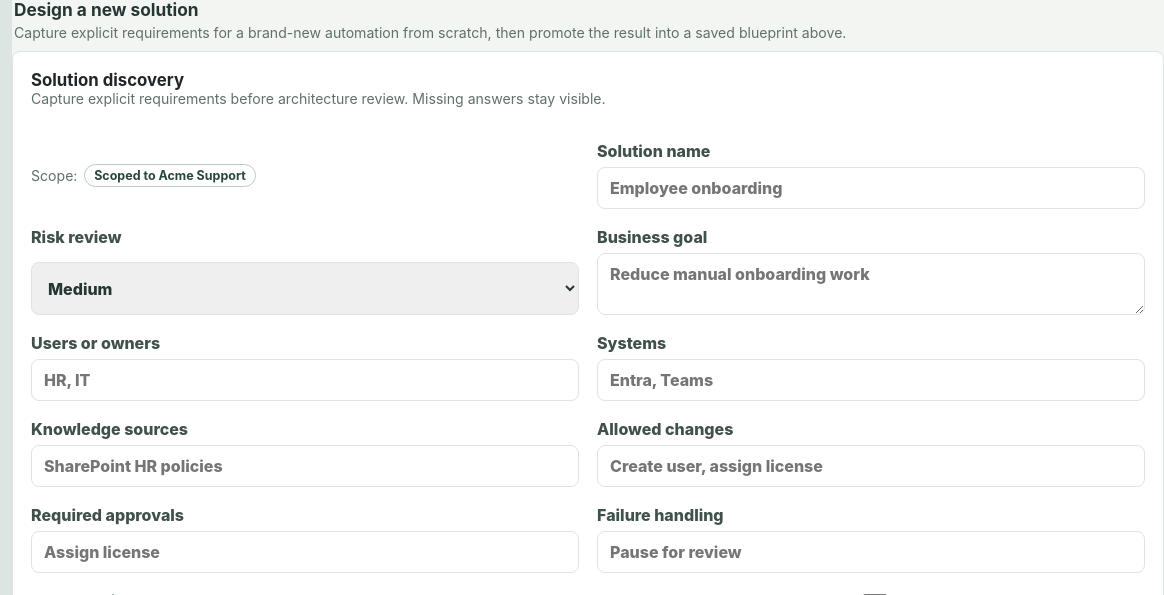
Scenario: Consultant › starts guided discovery from the authenticated tenant when no blueprint exists
The width and height of the screenshot is (1164, 595).
(page scrolled)
Type "We want to automate employee onboarding" into the text box labelled "Business goal" at x=871, y=284, box 597,253 -> 1145,315
(page scrolled)
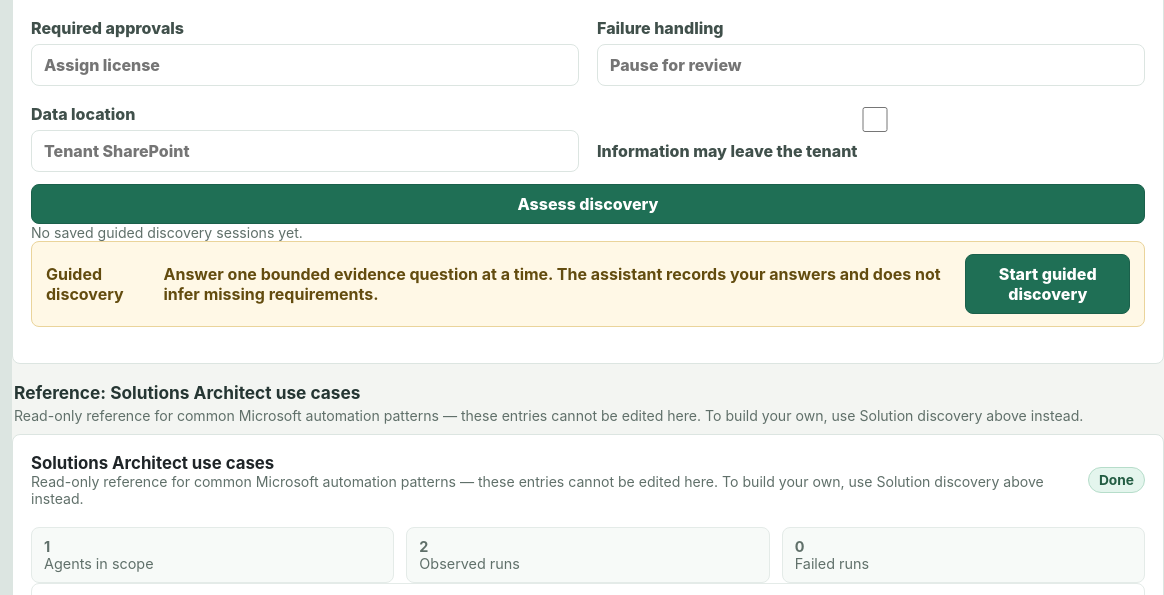
Click the button "Start guided discovery" at x=1048, y=284, box 966,254 -> 1130,314
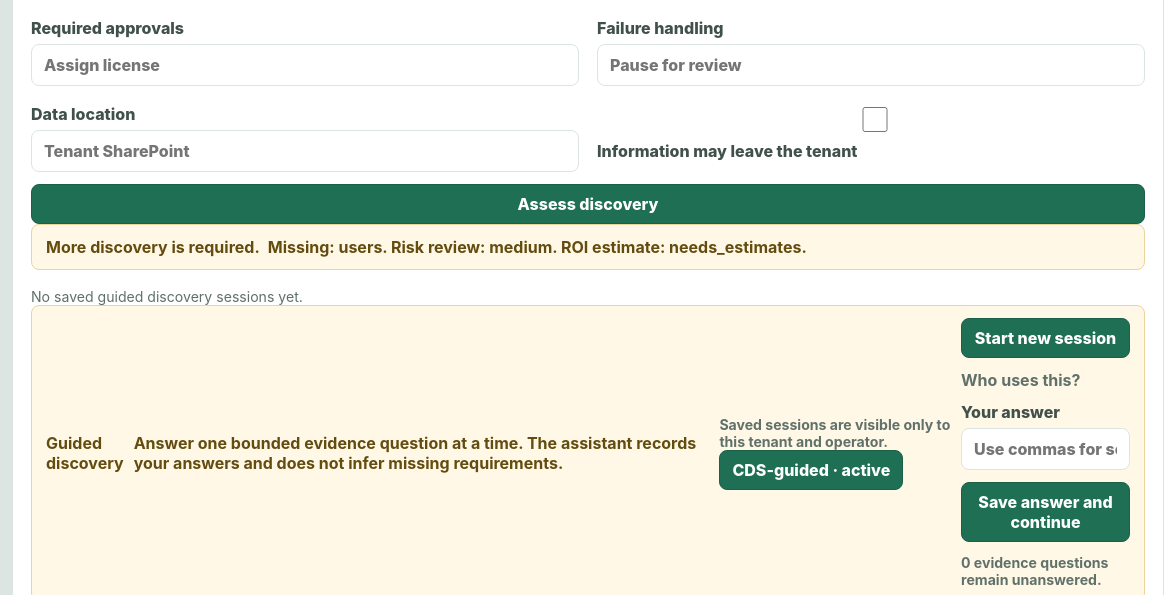
Expected: the text "Who uses this?" is shown, 961,370 -> 1080,390
Expected: the text "Saved sessions are visible only to this tenant and operator." is shown, 719,416 -> 953,450
Click the button "CDS-guided · active" at x=811, y=470, box 719,450 -> 903,490
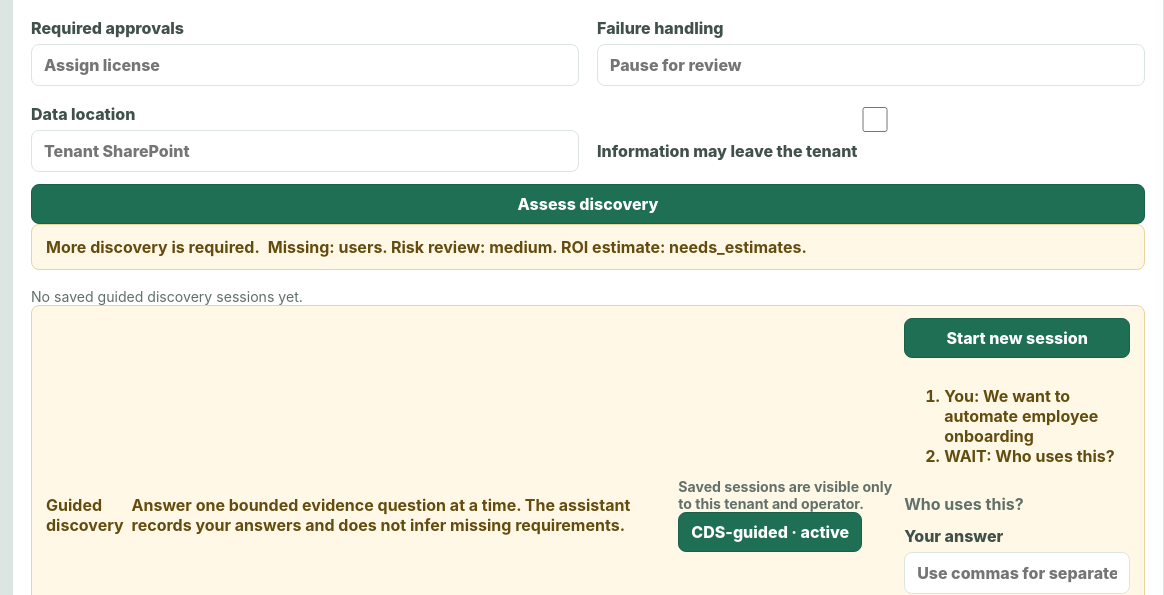
Expected: the list named "Guided discovery transcript" shows "We want to automate employee onboarding", 944,386 -> 1098,446
